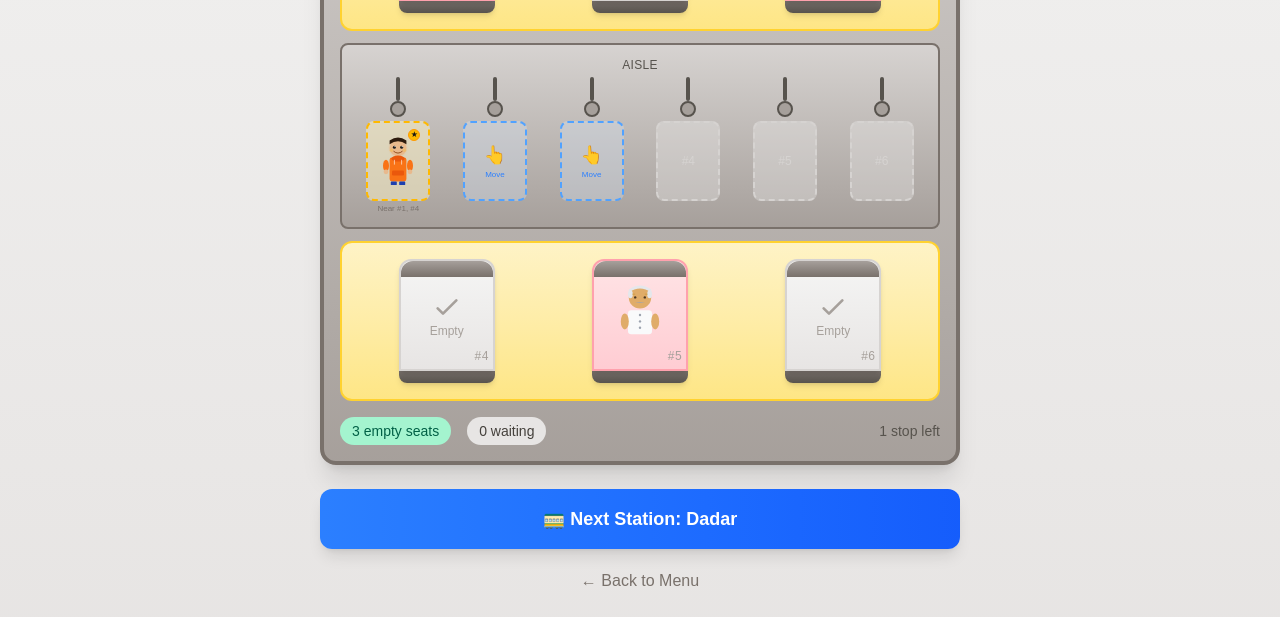
it: GamePage › next station flow › hides Next Station button when game is over
(page scrolled)
// Advance to destination
Step 1. Click the button with test id "next-station-button" → click(640, 519), box [320,489,960,549]
Wait 2700 ms
(page scrolled)
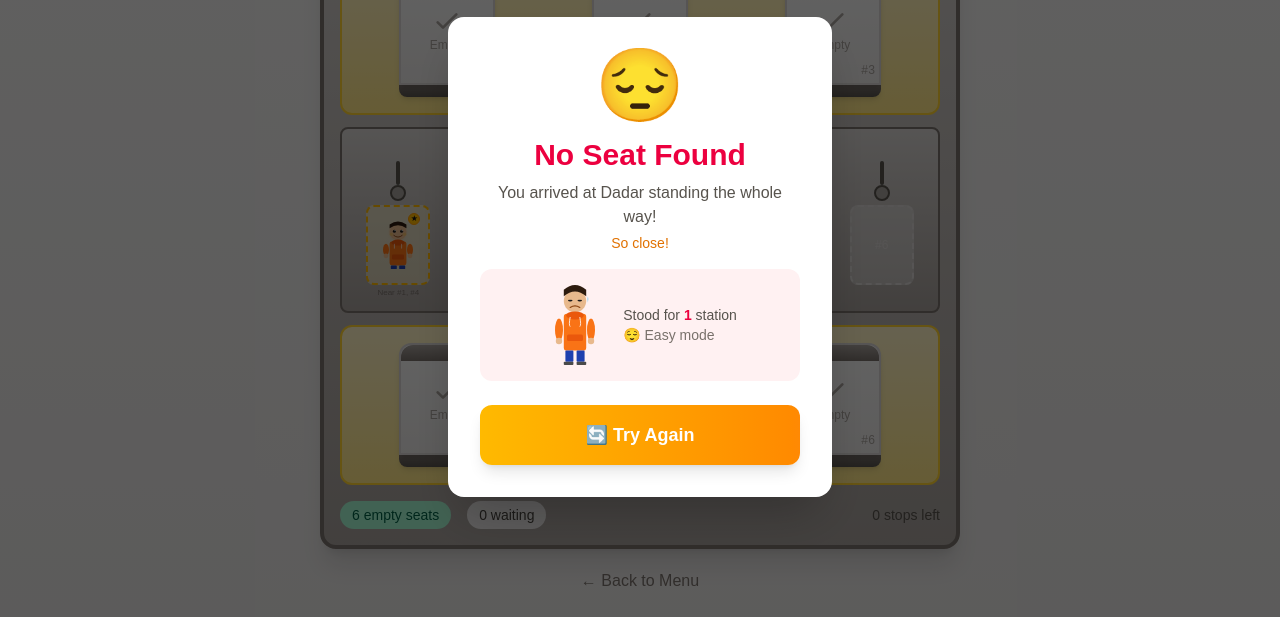
Check: the button with test id "next-station-button" is gone
